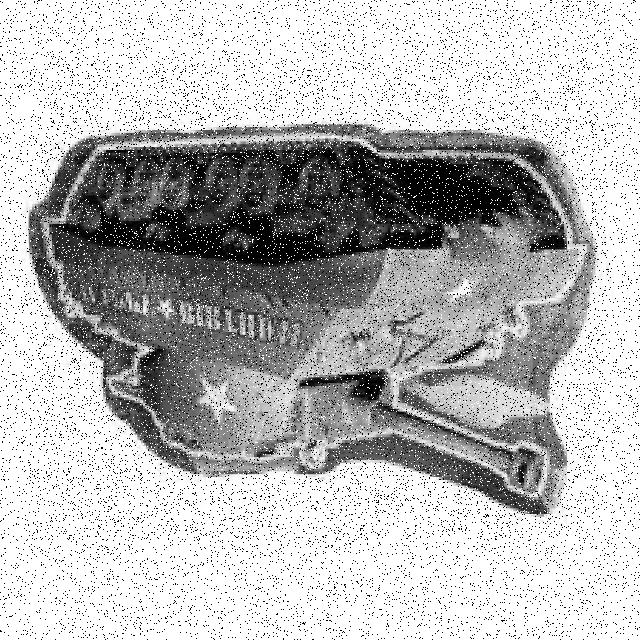MIL_MBT: (29, 63, 600, 539)
